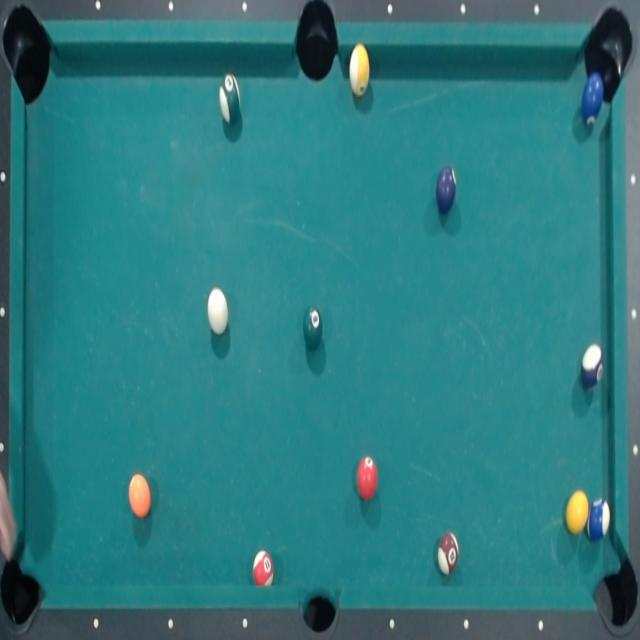blue_solid: (580, 72, 604, 130)
blue_stripe: (586, 497, 612, 542)
cue_ball: (205, 285, 231, 337)
green_solid: (302, 302, 324, 351)
green_stripe: (218, 73, 242, 126)
maroon_stripe: (435, 530, 461, 576)
orange_solid: (128, 472, 152, 520)
player_hand: (0, 470, 23, 566)
playr: (434, 163, 459, 217)
purple_solid: (580, 341, 605, 391)
purple_stripe: (356, 454, 378, 502)
red_solid: (252, 549, 276, 588)
red_stripe: (564, 488, 588, 536)
yellow_solid: (347, 42, 371, 99)
